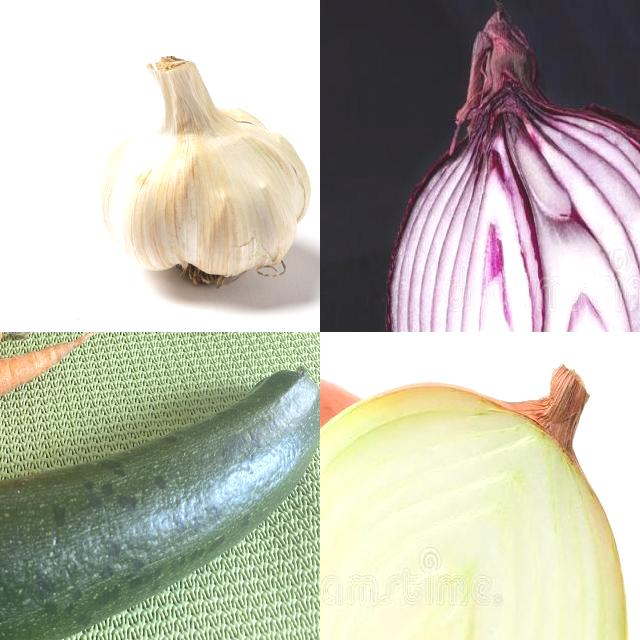carrot: (1, 333, 103, 476)
garlic: (95, 49, 319, 297)
onion: (378, 1, 640, 333), (321, 362, 631, 640), (321, 333, 411, 640)
zucchini: (1, 355, 321, 640)
